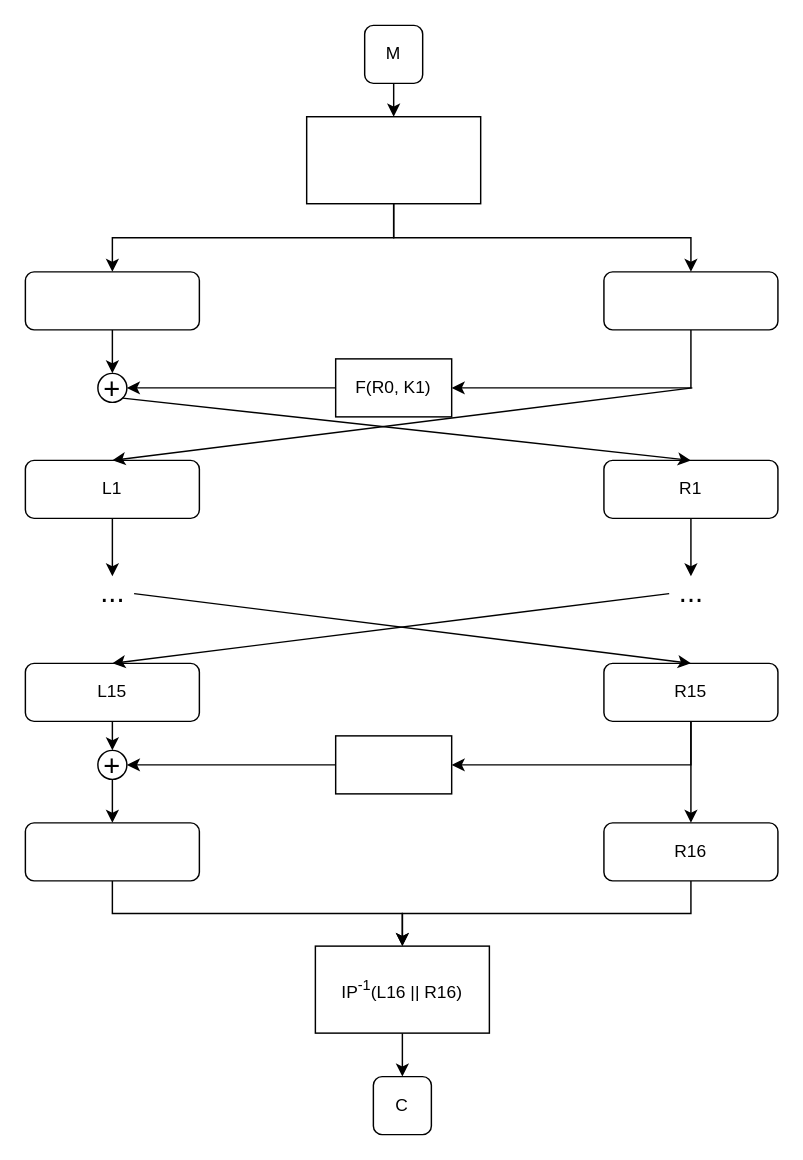
Image size: 803x1160. Some labels were removed from this diagram. The centre of each missing label's shape, as x and y in pixels:
"F(R15, K16)" goes at (393,764).
"IP(M)" goes at (393,159).
"L0" goes at (111,300).
"L16" goes at (111,851).
"R0" goes at (690,300).
